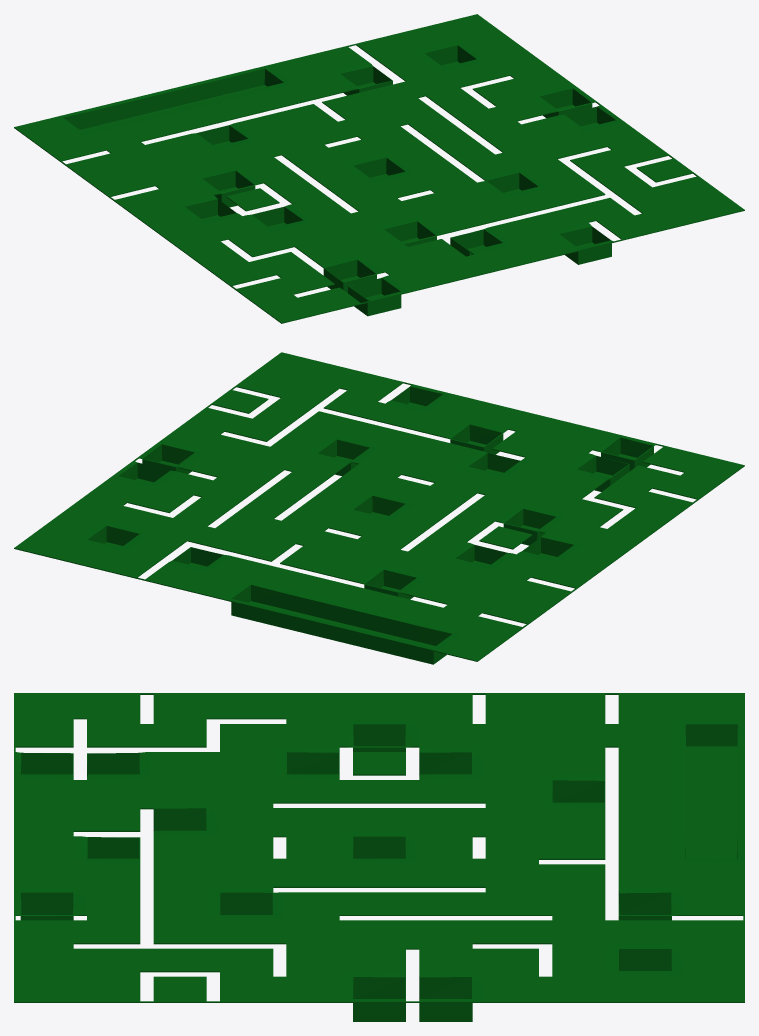
Rendered from FloorTwo_COL_01.FBX.
3 renders of one model, top to bottom at view 1: azimuth 30°, elevation 25°; view 2: azimuth 150°, elevation 25°; view 3: azimuth 270°, elevation 25°, orthographic. The views are drawn at different scales.
Visible parts, largest first — view 1: FloorTwo_COL_01; view 2: FloorTwo_COL_01; view 3: FloorTwo_COL_01.
Part boxes in pixels (<box>): FloorTwo_COL_01: <box>14,14,744,323</box>; FloorTwo_COL_01: <box>14,352,744,664</box>; FloorTwo_COL_01: <box>14,693,744,1021</box>.
Size of the model in its own units: 551 by 19 by 551.
